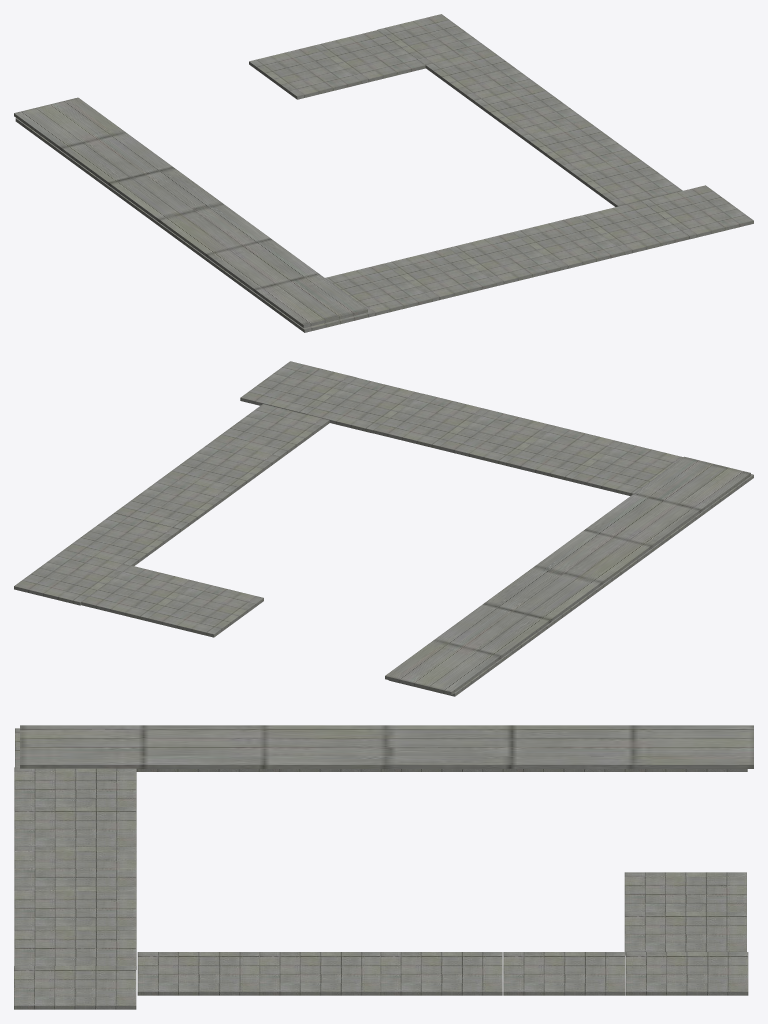
The model's file is Balcony.fbx.
The picture shows the model from 3 angles, top to bottom: view 1: azimuth 30°, elevation 25°; view 2: azimuth 150°, elevation 25°; view 3: azimuth 270°, elevation 25°; orthographic projection. The views are drawn at different scales.
Visible parts, largest first — view 1: Floor_half__18_, Floor_half__20_, Floor_half__16_, Floor_half__19_, Floor_half__26_, Floor_half__25_, Floor_half__27_, Floor_half__24_, Floor_half__14_, Floor_half__17_, Floor_half__15_, Floor_half__13_ (+3 smaller); view 2: Floor_half__18_, Floor_half__20_, Floor_half__10_, Floor_half__19_, Floor_half__25_, Floor_half__26_, Floor_half__27_, Floor_half__15_, Floor_half__14_, Floor_half__17_, Floor_half__24_, Floor_half__13_ (+2 smaller); view 3: Floor_half__18_, Floor_half__10_, Floor_half__14_, Floor_half__16_, Floor_half__17_, Floor_half__15_, Floor_half__13_, Floor_half__26_, Floor_half__20_, Floor_half__19_, Floor_half__24_, Floor_half__25_ (+2 smaller).
Boxes of the visible parts, left/top/right/bottom form: Floor_half__18_: left=14, top=97, right=367, bottom=327; Floor_half__20_: left=249, top=46, right=361, bottom=99; Floor_half__16_: left=641, top=185, right=753, bottom=239; Floor_half__19_: left=313, top=30, right=425, bottom=83; Floor_half__26_: left=513, top=216, right=624, bottom=270; Floor_half__25_: left=448, top=232, right=560, bottom=285; Floor_half__27_: left=384, top=248, right=496, bottom=301; Floor_half__24_: left=577, top=201, right=689, bottom=254; Floor_half__14_: left=425, top=49, right=537, bottom=103; Floor_half__17_: left=570, top=155, right=682, bottom=206; Floor_half__15_: left=474, top=85, right=586, bottom=138; Floor_half__13_: left=522, top=120, right=633, bottom=173; Floor_half__18_: left=385, top=456, right=750, bottom=695; Floor_half__20_: left=147, top=581, right=263, bottom=637; Floor_half__10_: left=14, top=550, right=129, bottom=605; Floor_half__19_: left=81, top=565, right=196, bottom=621; Floor_half__25_: left=439, top=410, right=555, bottom=465; Floor_half__26_: left=373, top=393, right=488, bottom=449; Floor_half__27_: left=506, top=426, right=621, bottom=481; Floor_half__15_: left=114, top=476, right=229, bottom=532; Floor_half__14_: left=64, top=513, right=180, bottom=565; Floor_half__17_: left=214, top=404, right=329, bottom=459; Floor_half__24_: left=306, top=377, right=422, bottom=433; Floor_half__13_: left=164, top=440, right=279, bottom=495; Floor_half__18_: left=20, top=725, right=753, bottom=768; Floor_half__10_: left=626, top=952, right=748, bottom=995; Floor_half__14_: left=503, top=952, right=625, bottom=995; Floor_half__16_: left=14, top=966, right=136, bottom=1009; Floor_half__17_: left=137, top=952, right=259, bottom=995; Floor_half__15_: left=380, top=952, right=502, bottom=995; Floor_half__13_: left=259, top=952, right=381, bottom=995; Floor_half__26_: left=14, top=886, right=136, bottom=926; Floor_half__20_: left=624, top=872, right=746, bottom=912; Floor_half__19_: left=624, top=912, right=746, bottom=955; Floor_half__24_: left=14, top=926, right=136, bottom=969; Floor_half__25_: left=14, top=846, right=136, bottom=886.
Bounding box in the file's own units: 3119 × 40.52 × 3515.
Materials: 2 (2 with a texture image).
